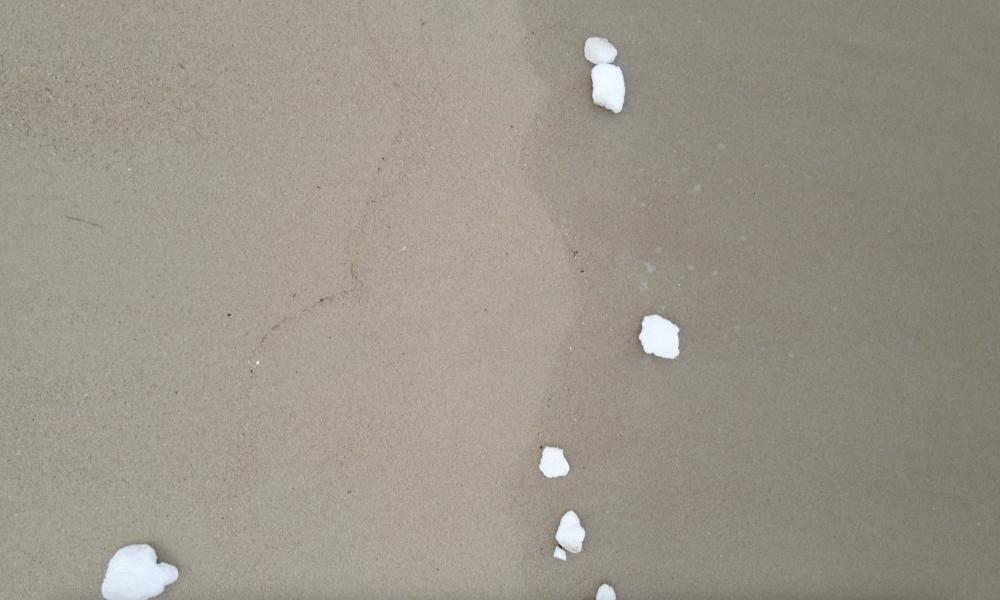styrofoam: (100, 542, 178, 600), (590, 64, 628, 115), (640, 313, 680, 361), (556, 508, 586, 557), (539, 444, 570, 479), (584, 34, 617, 64), (597, 583, 618, 600), (552, 548, 566, 562)
